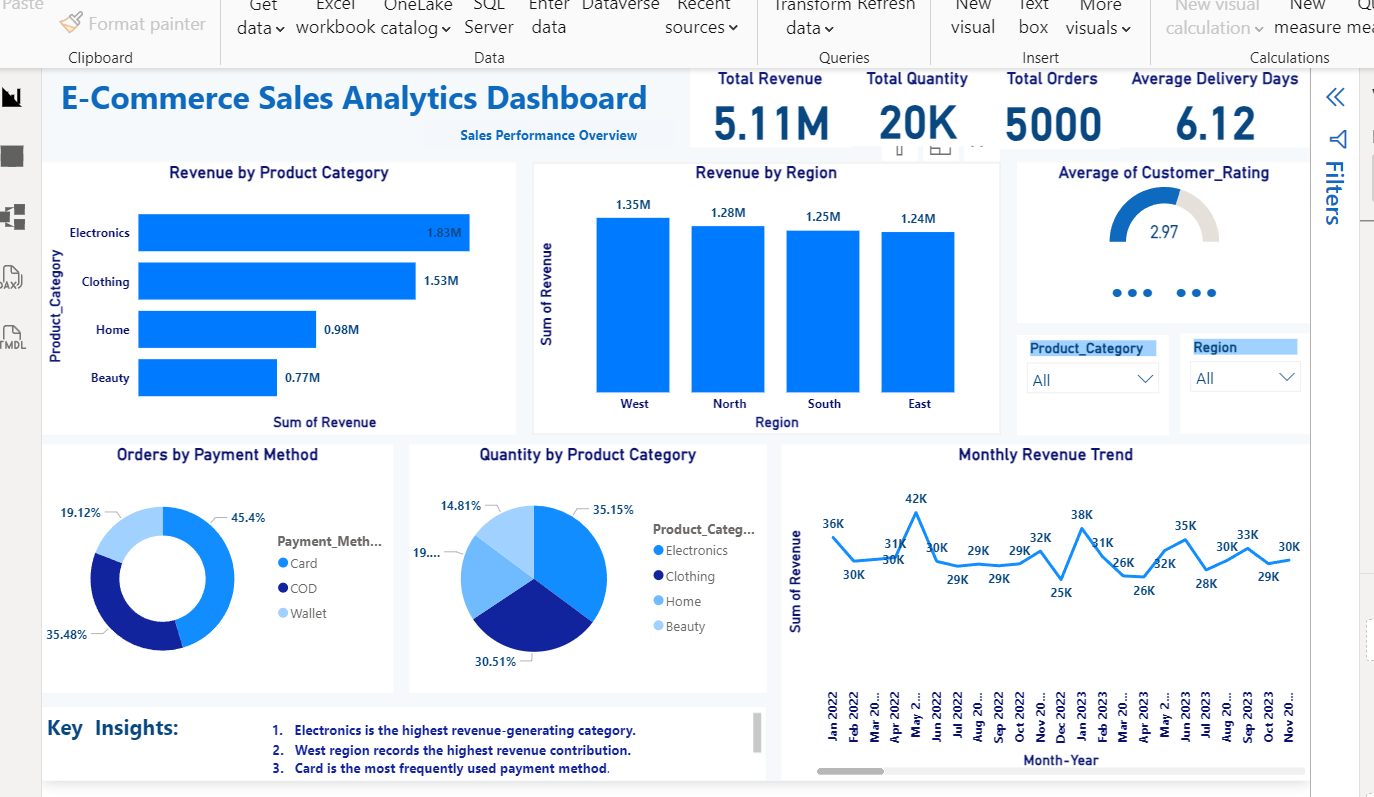

What the dashboard file says about the page in this screenshot:
{"tool":"powerbi","page":{"name":"Page 1","canvas":[1280,720],"ordinal":0},"visuals":[{"type":"barChart","title":"Revenue by Product Category","fields":{"Y":["Sum(cleaned_data.revenue)"],"Category":["cleaned_data.product_category"]},"box":[0,94.7,478.4,274.7],"z":0},{"type":"lineChart","title":"Monthly Revenue Trend","fields":{"Y":["Sum(cleaned_data.revenue)"],"Category":["cleaned_data.Month-Year"]},"box":[746.9,380.4,533.8,338.6],"z":1000},{"type":"textbox","box":[14.2,1.6,786.3,52.1],"z":3000},{"type":"donutChart","title":"Orders by Payment Method","fields":{"Category":["cleaned_data.payment_method"],"Y":["Count(cleaned_data.order_id)"]},"box":[0,380.4,354.5,251],"z":4000},{"type":"columnChart","title":"Revenue by Region","fields":{"Y":["Sum(cleaned_data.revenue)"],"Category":["cleaned_data.region"]},"box":[495.8,94.7,472.1,274.7],"z":5000},{"type":"pieChart","title":" Quantity by Product Category","fields":{"Y":["Sum(cleaned_data.quantity)"],"Category":["cleaned_data.product_category"]},"box":[370.5,380.4,360.5,251],"z":6000},{"type":"card","title":"Total Quantity","fields":{"Values":["cleaned_data.Total Quantity"]},"box":[800.5,1.6,151.6,78.9],"z":7000},{"type":"card","title":"Total Orders","fields":{"Values":["cleaned_data.Total Orders"]},"box":[956,0,133.4,81.7],"z":8000},{"type":"slicer","fields":{"Values":["cleaned_data.region"]},"box":[1149.5,268.4,131.1,101.1],"z":9000},{"type":"slicer","fields":{"Values":["cleaned_data.product_category"]},"box":[983.9,268.9,153.4,101.6],"z":10000},{"type":"card","title":"Average Delivery Days","fields":{"Values":["cleaned_data.Average Delivery Days"]},"box":[1089.5,1.6,191.1,80.5],"z":11000},{"type":"gauge","fields":{"Y":["Avg(cleaned_data.customer_rating)"]},"box":[983.7,96,296.8,162],"z":12000},{"type":"card","title":"Total Revenue","fields":{"Values":["cleaned_data.Total Revenue"]},"box":[634.7,0,165.8,80.5],"z":13000},{"type":"textbox","box":[385.3,53.7,254.2,28.4],"z":14000},{"type":"textbox","box":[0,645.3,731,73.7],"z":15000}]}

Visuals, with their boxes on the page's 1280x720 design canvas (x1, y1, x2, y2). These are canvas units, not pixel positions in the 1374x797 screenshot, which may show the page scaled, cropped or inside an application window:
"Revenue by Product Category" barChart: {"left": 0, "top": 95, "right": 478, "bottom": 369}
"Monthly Revenue Trend" lineChart: {"left": 747, "top": 380, "right": 1281, "bottom": 719}
textbox: {"left": 14, "top": 2, "right": 800, "bottom": 54}
"Orders by Payment Method" donutChart: {"left": 0, "top": 380, "right": 354, "bottom": 631}
"Revenue by Region" columnChart: {"left": 496, "top": 95, "right": 968, "bottom": 369}
" Quantity by Product Category" pieChart: {"left": 370, "top": 380, "right": 731, "bottom": 631}
"Total Quantity" card: {"left": 800, "top": 2, "right": 952, "bottom": 80}
"Total Orders" card: {"left": 956, "top": 0, "right": 1089, "bottom": 82}
slicer - cleaned_data.region: {"left": 1150, "top": 268, "right": 1281, "bottom": 370}
slicer - cleaned_data.product_category: {"left": 984, "top": 269, "right": 1137, "bottom": 370}
"Average Delivery Days" card: {"left": 1090, "top": 2, "right": 1281, "bottom": 82}
gauge - Avg(cleaned_data.customer_rating): {"left": 984, "top": 96, "right": 1280, "bottom": 258}
"Total Revenue" card: {"left": 635, "top": 0, "right": 800, "bottom": 80}
textbox: {"left": 385, "top": 54, "right": 640, "bottom": 82}
textbox: {"left": 0, "top": 645, "right": 731, "bottom": 719}
